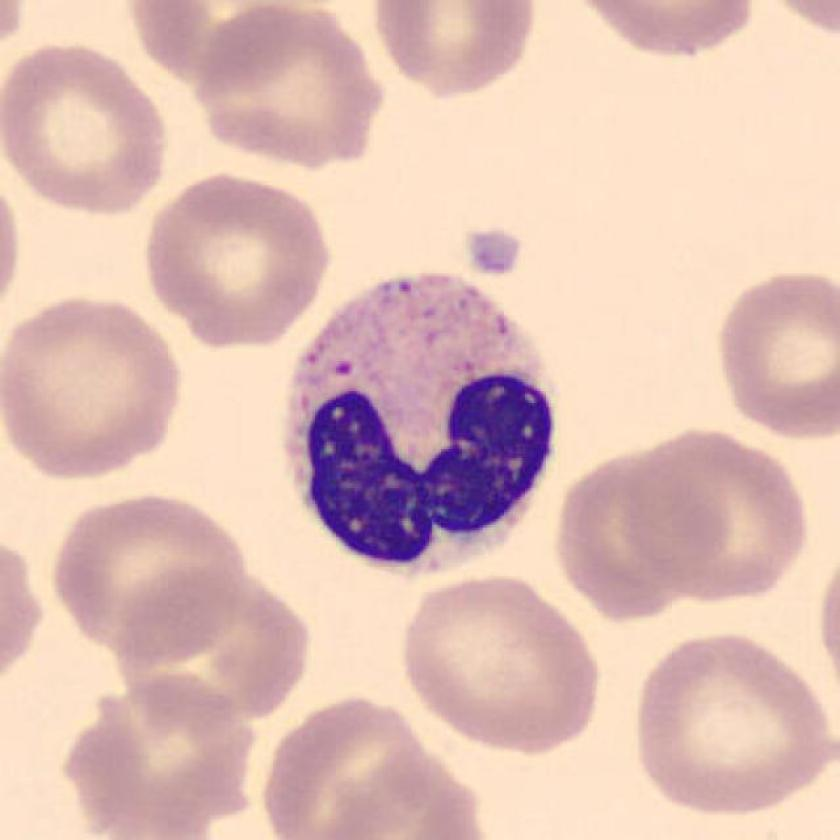neutrophil: (288, 273, 555, 575)
